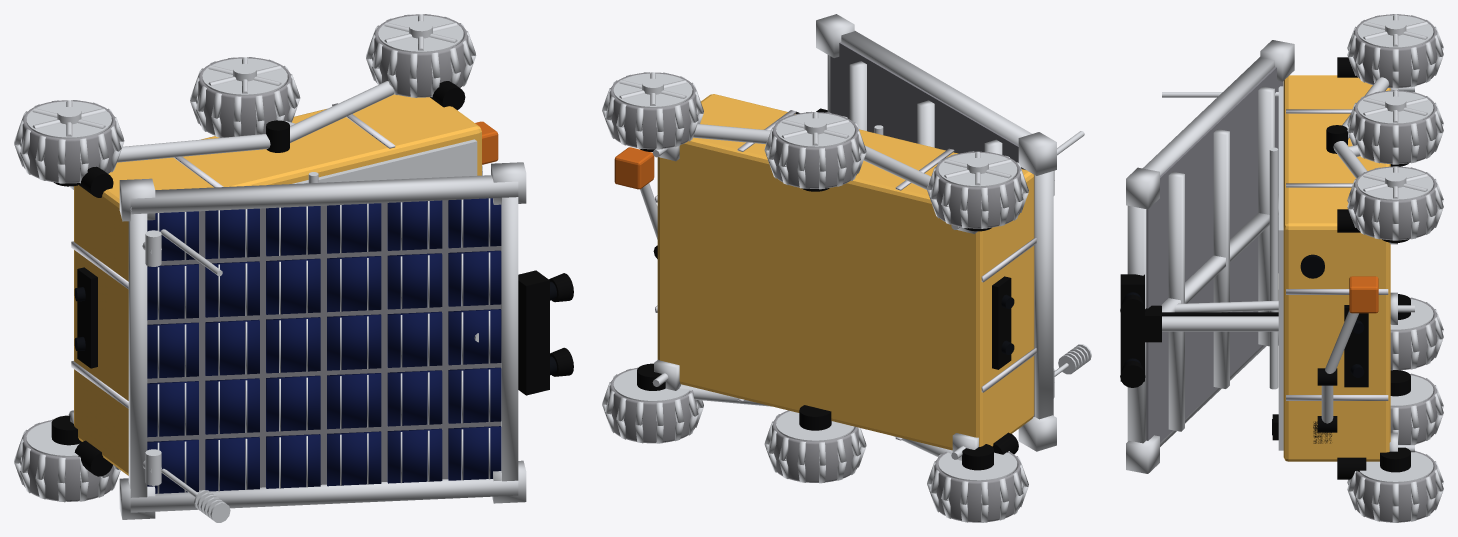
The model's file is rover_B.obj.
3 renders of one model, left to right at view 1: azimuth 30°, elevation 25°; view 2: azimuth 150°, elevation 25°; view 3: azimuth 270°, elevation 25°, orthographic. The views are drawn at different scales.
Visible parts, largest first — view 1: tilt_panel_cells, tilt_panel_frame, chassis, tilt_panel_substrate, tilt_panel_busbars, navcam_bar, chassis_top_deck, wheel_RL_tyre, wheel_FL_tyre, wheel_ML_tyre, wheel_ML_flanges, wheel_FL_flanges (+19 smaller); view 2: chassis, tilt_panel_frame, tilt_panel_substrate, wheel_FL_tyre, wheel_RL_tyre, wheel_ML_tyre, wheel_RR_tyre, wheel_MR_tyre, wheel_FR_tyre, wheel_RL_flanges, wheel_FL_flanges, wheel_ML_flanges (+20 smaller); view 3: chassis, tilt_panel_substrate, tilt_panel_back_ribs, tilt_panel_frame, wheel_FL_tyre, wheel_ML_tyre, wheel_RL_tyre, wheel_FR_tyre, chassis_top_deck, differential_bar, wheel_RL_flanges, wheel_ML_flanges (+32 smaller).
Part boxes in pixels (left/top/right/bottom): tilt_panel_cells: left=147, top=198, right=501, bottom=493; tilt_panel_frame: left=119, top=162, right=526, bottom=519; chassis: left=74, top=94, right=481, bottom=475; tilt_panel_substrate: left=147, top=200, right=500, bottom=490; tilt_panel_busbars: left=157, top=198, right=490, bottom=493; navcam_bar: left=518, top=270, right=549, bottom=395; chassis_top_deck: left=292, top=139, right=477, bottom=183; wheel_RL_tyre: left=22, top=100, right=116, bottom=183; wheel_FL_tyre: left=373, top=14, right=468, bottom=97; wheel_ML_tyre: left=198, top=57, right=292, bottom=137; wheel_ML_flanges: left=202, top=57, right=287, bottom=95; wheel_FL_flanges: left=378, top=14, right=463, bottom=52; chassis: left=657, top=94, right=1034, bottom=450; tilt_panel_frame: left=816, top=14, right=1056, bottom=451; tilt_panel_substrate: left=830, top=42, right=1034, bottom=416; wheel_FL_tyre: left=609, top=72, right=696, bottom=149; wheel_RL_tyre: left=934, top=151, right=1021, bottom=228; wheel_ML_tyre: left=772, top=112, right=858, bottom=188; wheel_RR_tyre: left=934, top=451, right=1021, bottom=522; wheel_MR_tyre: left=772, top=410, right=858, bottom=482; wheel_FR_tyre: left=609, top=367, right=696, bottom=443; wheel_RL_flanges: left=938, top=151, right=1017, bottom=187; wheel_FL_flanges: left=613, top=72, right=692, bottom=107; wheel_ML_flanges: left=776, top=112, right=854, bottom=147; chassis: left=1283, top=75, right=1390, bottom=461; tilt_panel_substrate: left=1146, top=67, right=1282, bottom=442; tilt_panel_back_ribs: left=1161, top=86, right=1278, bottom=431; tilt_panel_frame: left=1126, top=40, right=1294, bottom=473; wheel_FL_tyre: left=1353, top=166, right=1437, bottom=240; wheel_ML_tyre: left=1353, top=90, right=1437, bottom=164; wheel_RL_tyre: left=1353, top=14, right=1437, bottom=87; wheel_FR_tyre: left=1353, top=451, right=1437, bottom=522; chassis_top_deck: left=1278, top=86, right=1283, bottom=450; differential_bar: left=1269, top=147, right=1278, bottom=389; wheel_RL_flanges: left=1357, top=14, right=1433, bottom=48; wheel_ML_flanges: left=1357, top=90, right=1433, bottom=124.
Size of the model in its own units: 0.9504 by 0.76 by 0.6652.
